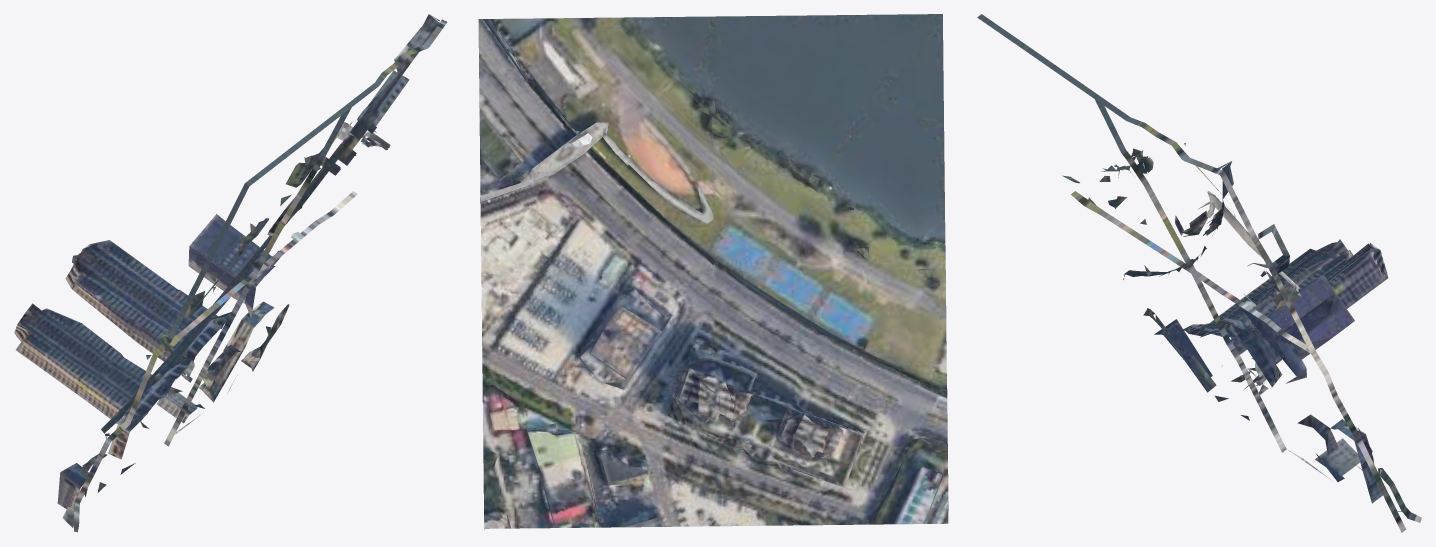
3 renders of one model, left to right at view 1: azimuth 30°, elevation 25°; view 2: azimuth 150°, elevation 25°; view 3: azimuth 270°, elevation 25°, orthographic. The views are drawn at different scales.
Size of the model in its own units: 306 by 284 by 273.
Materials: 2 (2 with a texture image).
